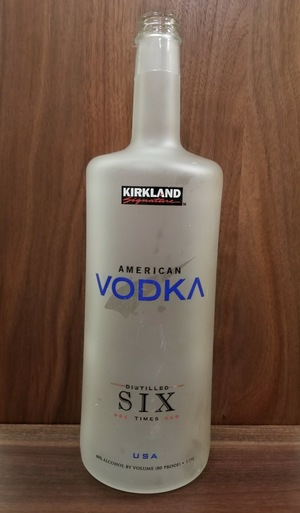emptybottle: (80, 12, 224, 495)
